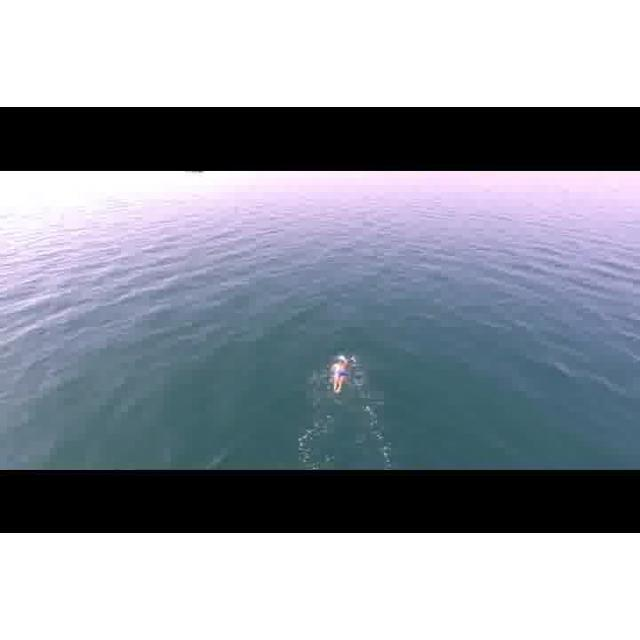human: (331, 355, 355, 395)
